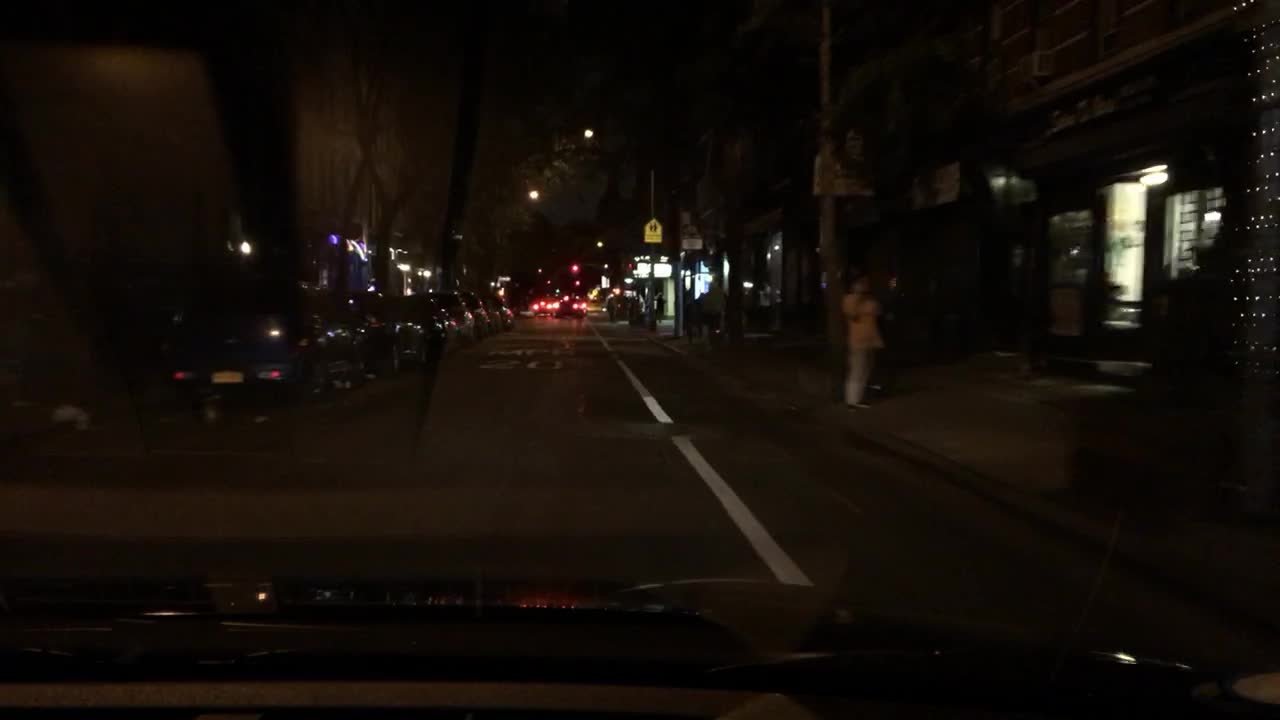car: (162, 278, 366, 403), (349, 289, 426, 379), (408, 293, 457, 361), (439, 295, 476, 341), (477, 291, 501, 338), (460, 290, 486, 331), (555, 296, 585, 315), (497, 299, 516, 326), (530, 296, 551, 315)
person: (839, 273, 879, 411), (880, 268, 904, 398), (651, 291, 666, 328)
traffic light: (571, 262, 578, 275)
traffic sign: (681, 224, 701, 249), (642, 218, 661, 242)
